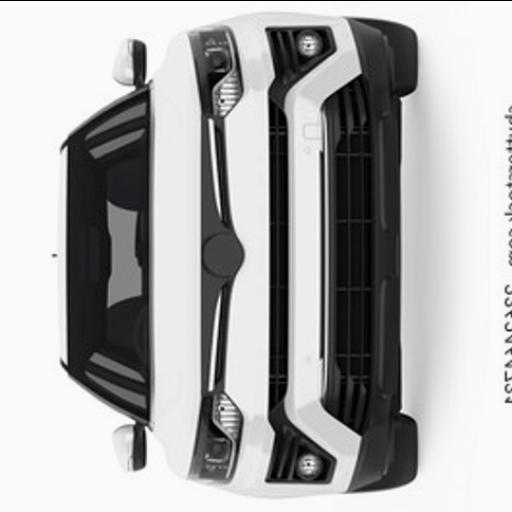suv: (58, 12, 415, 495)
